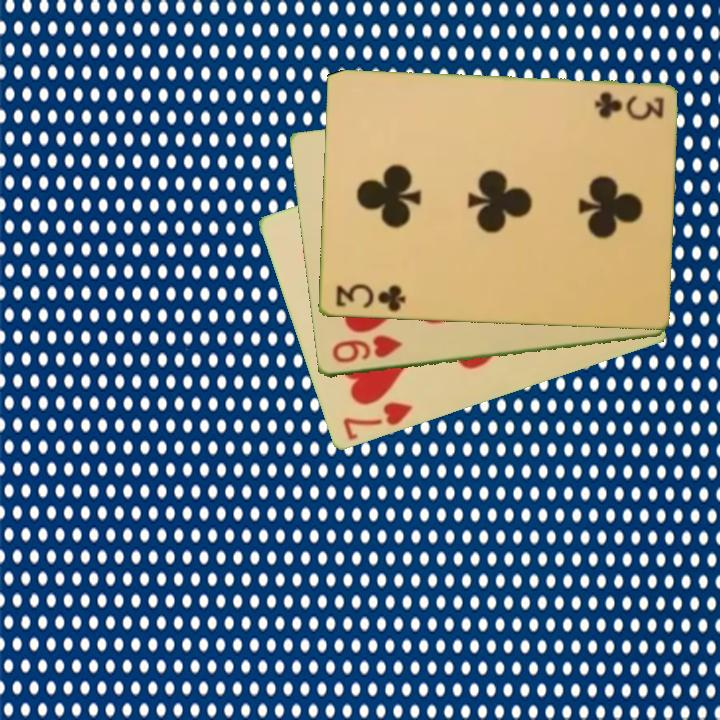3c: (332, 281, 408, 315), (590, 88, 666, 121)
7h: (338, 398, 416, 444)
9h: (328, 332, 405, 367)
